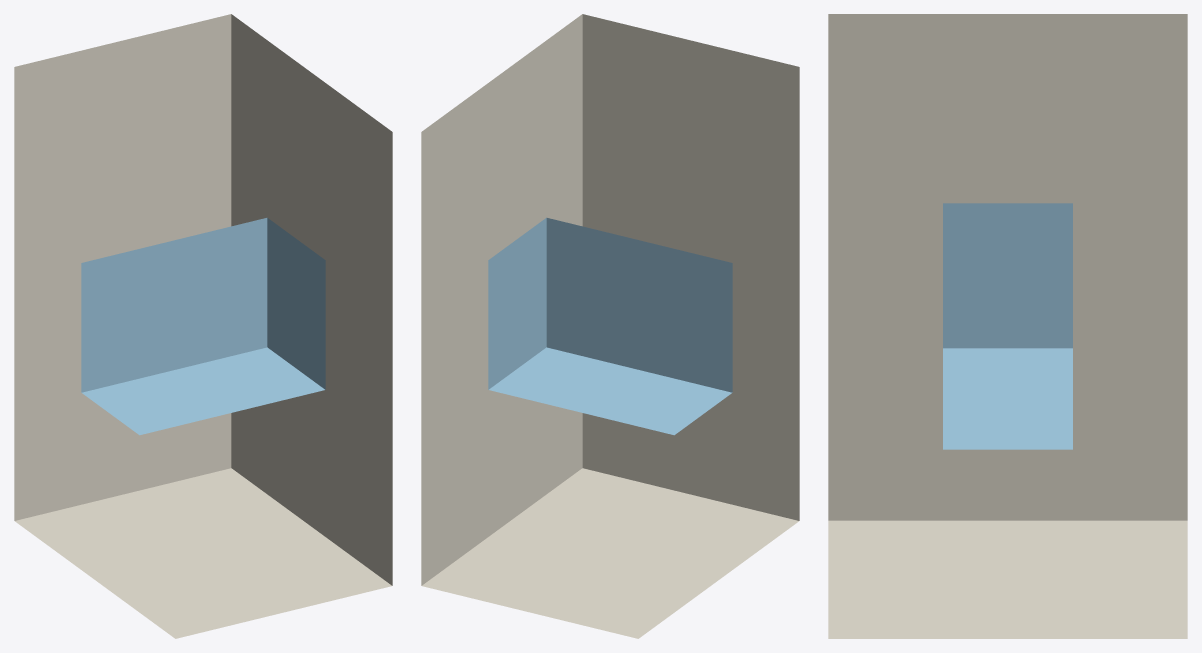
The picture shows the model from 3 angles, left to right: view 1: azimuth 30°, elevation 25°; view 2: azimuth 150°, elevation 25°; view 3: azimuth 270°, elevation 25°; orthographic projection. The views are drawn at different scales.
Parts seen in each view (by area): view 1: BufferTank, PrimaryPump; view 2: BufferTank, PrimaryPump; view 3: BufferTank, PrimaryPump.
Boxes of the visible parts, <box> form: BufferTank: <box>14,14,392,638</box>; PrimaryPump: <box>81,217,325,435</box>; BufferTank: <box>421,14,799,638</box>; PrimaryPump: <box>488,217,732,435</box>; BufferTank: <box>828,14,1187,638</box>; PrimaryPump: <box>943,203,1072,449</box>.
Size of the model in its own units: 2.8 by 5.6 by 3.6.
